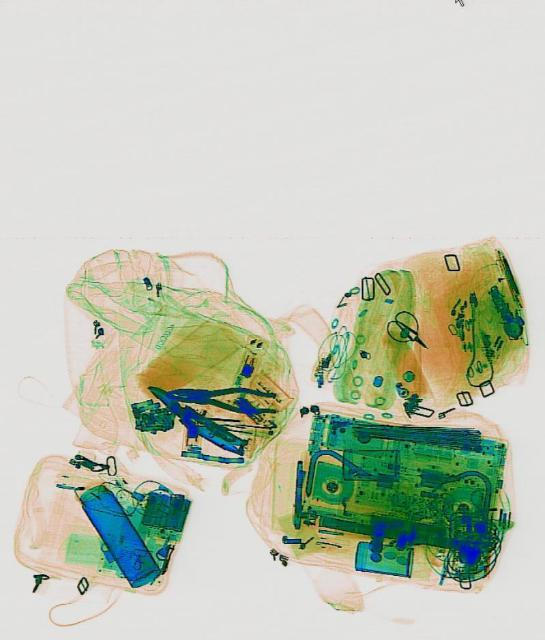Pliers: (165, 380, 276, 414)
